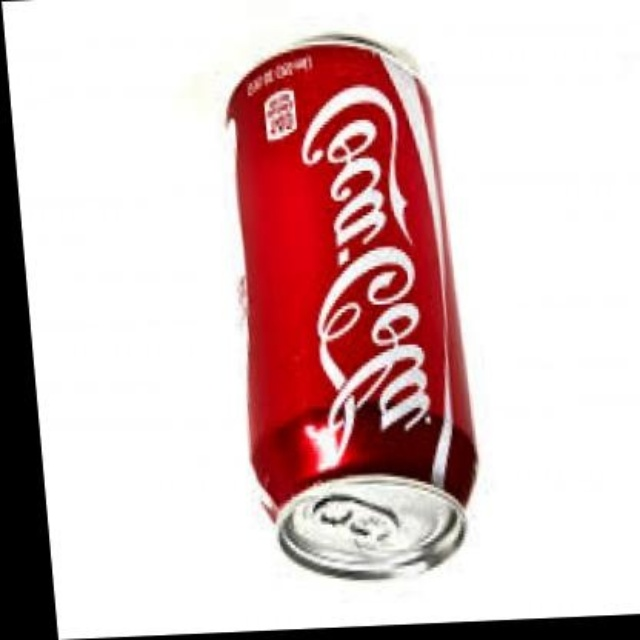trash: (228, 35, 475, 575)
